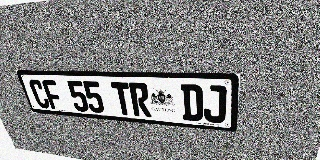5: (66, 80, 90, 112), (82, 81, 106, 113)
C: (28, 79, 51, 109)
D: (181, 84, 203, 122)
F: (41, 80, 65, 110)
J: (203, 85, 227, 124)
R: (128, 82, 152, 117)
T: (110, 82, 134, 116)
